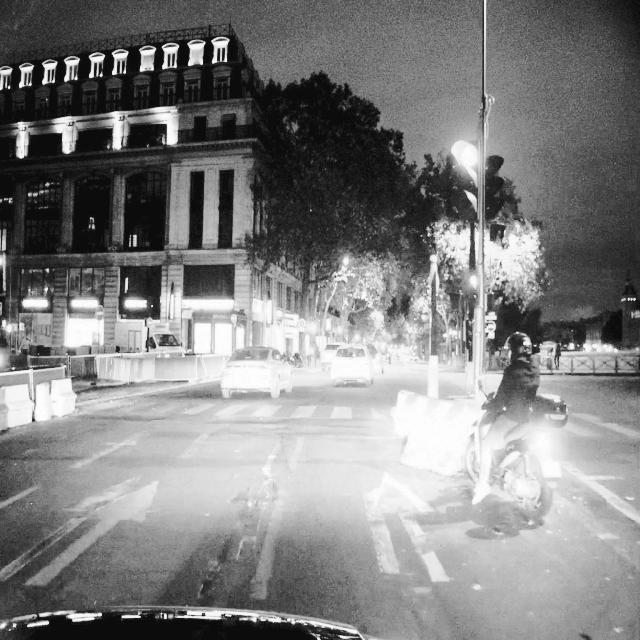Car: (223, 345, 294, 400)
Light: (451, 140, 479, 216), (485, 152, 504, 214), (468, 274, 478, 306)
Motorcycle: (464, 368, 558, 524)
